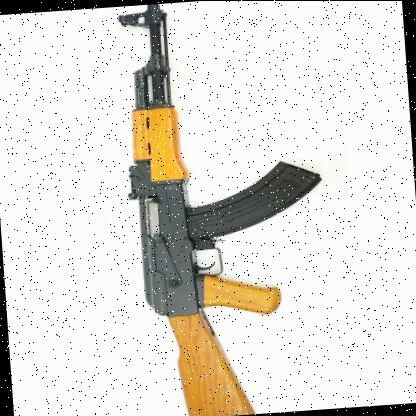rifle: (88, 0, 347, 416)
